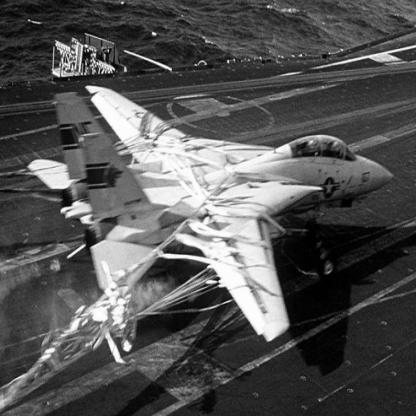F14: (28, 86, 394, 344)
